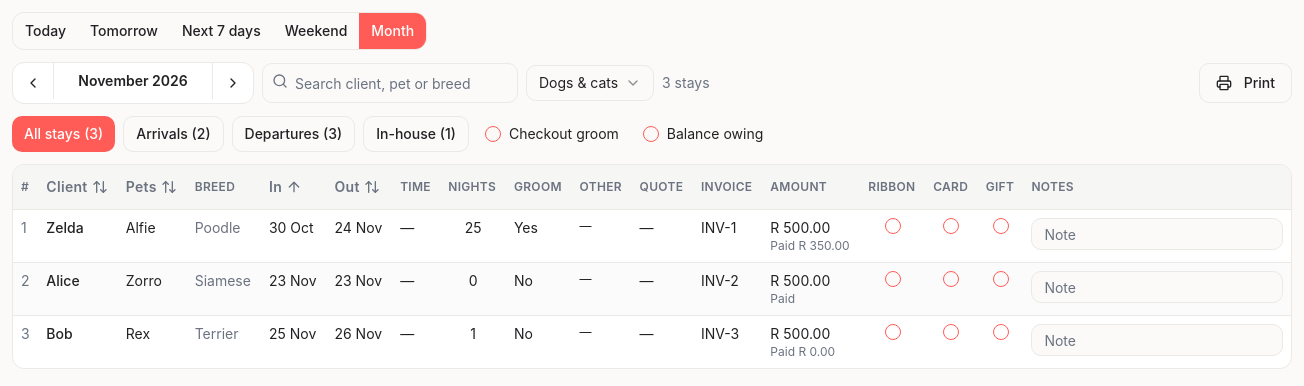
Test: balance filter includes R150 outstanding but not a paid or draft invoice
expect the link "Zelda" is shown: met, box [46, 219, 84, 236]
Click the checkbox named "Balance owing" next to "Balance owing" at (651, 134), box [643, 126, 659, 142]
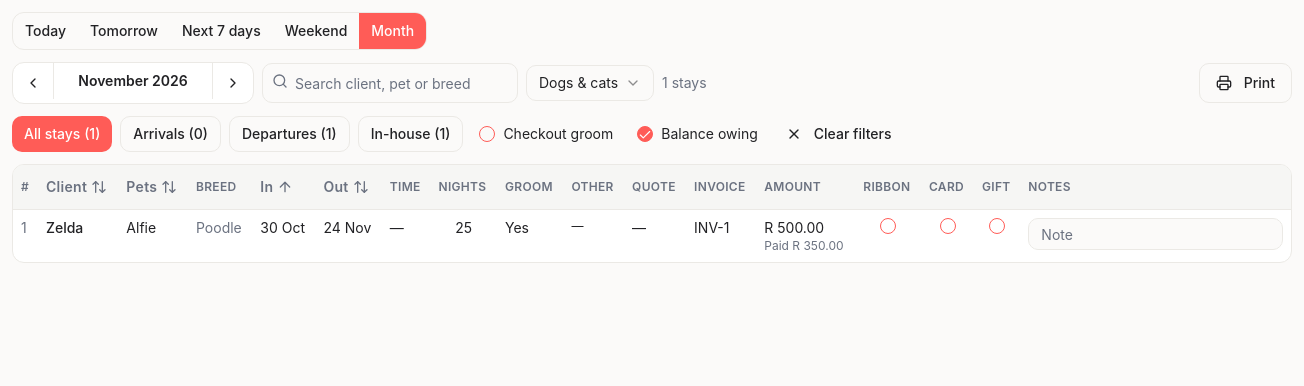
expect the link "Zelda" is shown: met, box [46, 219, 83, 236]
expect the link "Alice" is gone: met
expect the link "Bob" is gone: met
